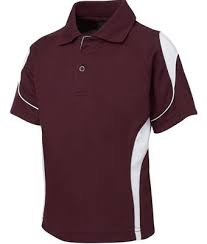C_polo shirt: (12, 11, 198, 238)
